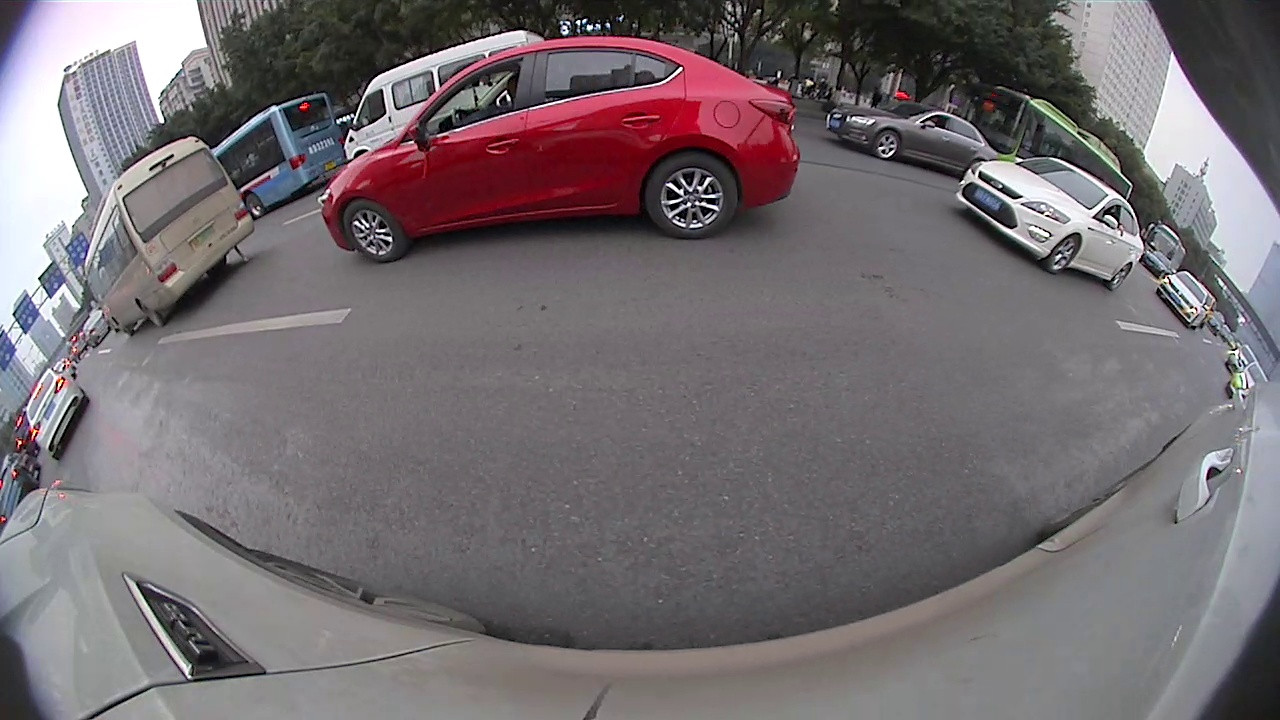bus: (79, 132, 258, 333), (940, 85, 1128, 200), (209, 94, 337, 213)
car: (321, 38, 796, 260), (956, 158, 1147, 291), (344, 32, 540, 157), (826, 104, 986, 169), (24, 369, 89, 461), (1156, 273, 1213, 332)
front: (344, 203, 407, 261), (1045, 237, 1082, 272), (874, 130, 896, 158)
rear: (642, 154, 738, 237), (1108, 264, 1131, 290), (138, 302, 164, 324), (244, 191, 262, 216)
